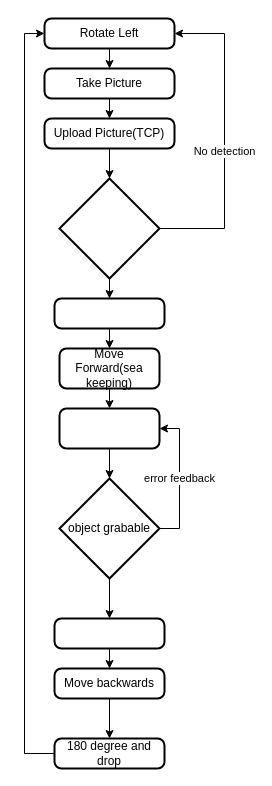
Image size: 272x786. Some labels were removed from this diagram. Here are the shapes that lost their labels. From the top down, the centre of each, then its label:
[109,228]: Listen()
[109,313]: init local error tracking
[109,428]: Course Correction
[109,633]: Grab with servo
